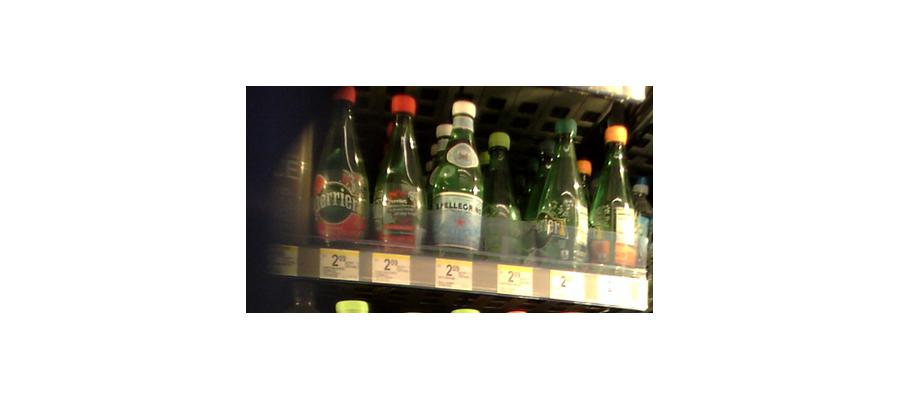bottle: (372, 93, 429, 255), (317, 84, 372, 249), (429, 100, 482, 261), (533, 118, 586, 267), (591, 120, 636, 271), (482, 128, 527, 264)
